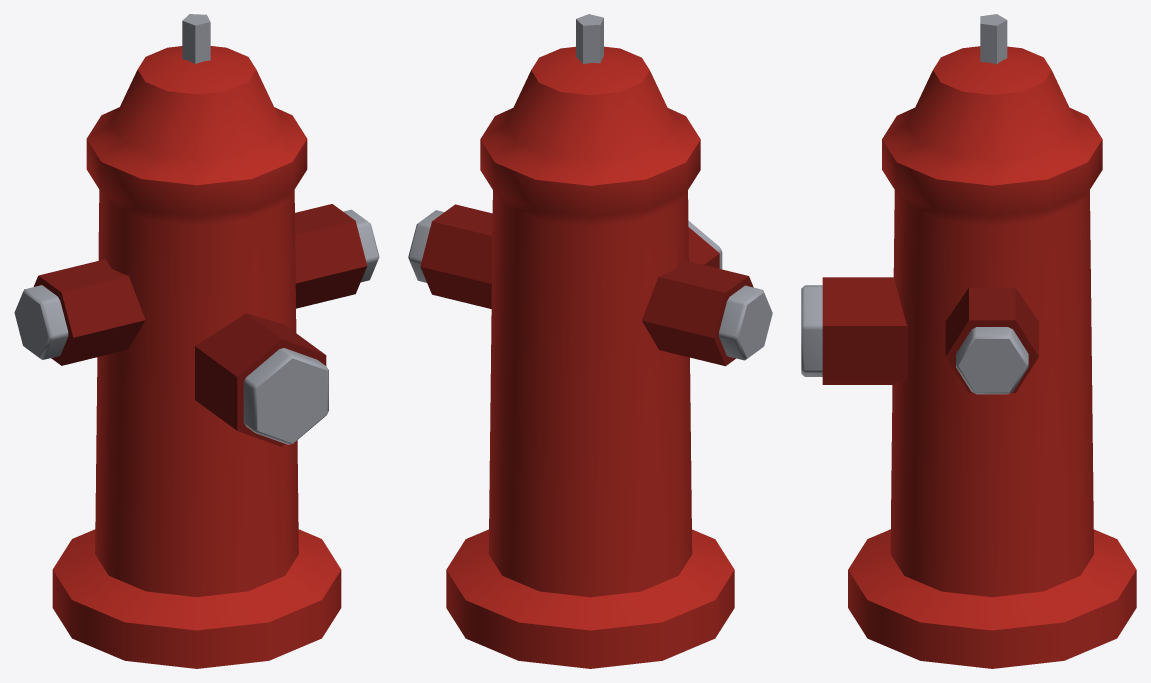
Rendered from gen_fire_hydrant.mobile-low.glb.
3 views of the same model, side by side, from view 1: azimuth 30°, elevation 25°; view 2: azimuth 150°, elevation 25°; view 3: azimuth 270°, elevation 25° (orthographic).
Parts seen in each view (by area): view 1: gen_fire_hydrant; view 2: gen_fire_hydrant; view 3: gen_fire_hydrant.
Boxes of the visible parts, x1,y1,x2,y2 form: gen_fire_hydrant: [14, 14, 379, 668]; gen_fire_hydrant: [408, 14, 772, 668]; gen_fire_hydrant: [801, 14, 1136, 668].
Size of the model in its own units: 0.45 by 0.765 by 0.395.
1 material, 1 textured.
